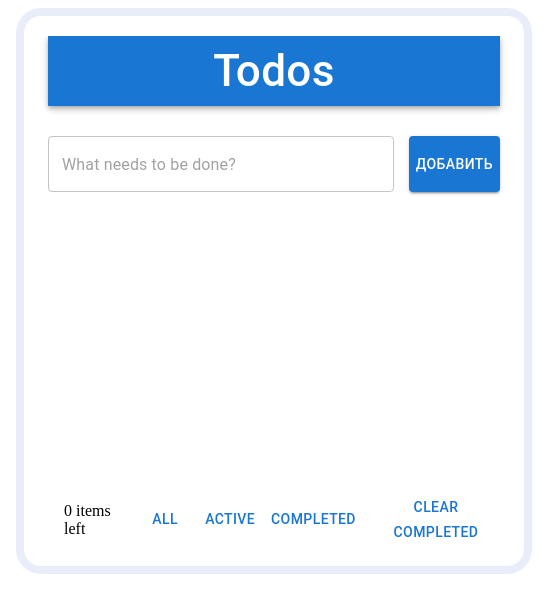
Test: фильтрация всех задач
The image size is (549, 591).
Добавляем задачи
Type "Задача 1" into the field with placeholder "What needs to be done?" at (221,164), box [48, 136, 394, 192]
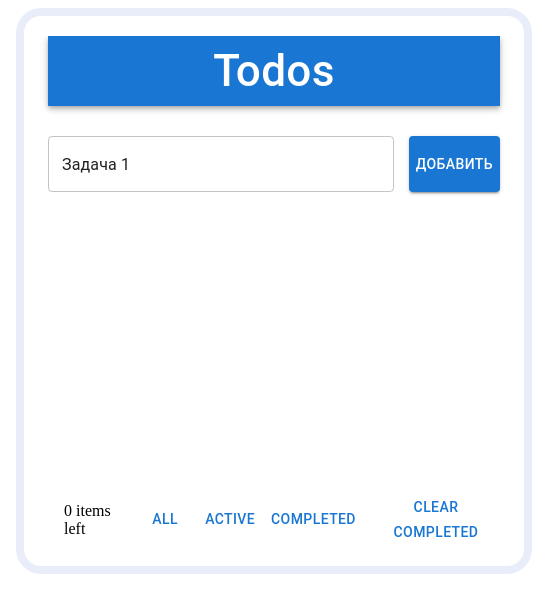
Click the button "Добавить" at (454,164), box [409, 136, 500, 192]
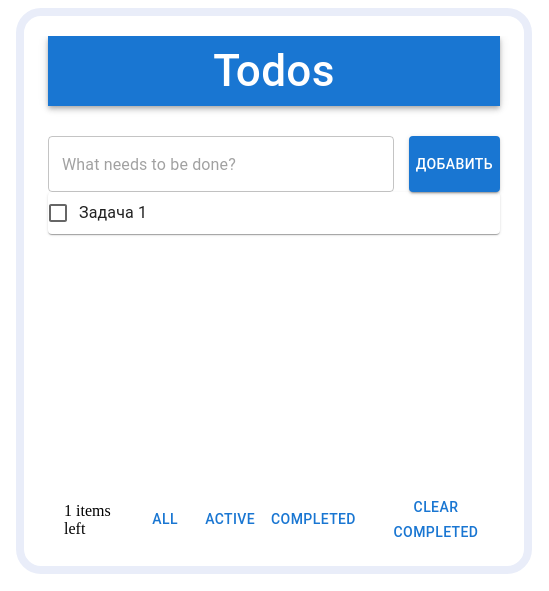
Type "Задача 2" into the field with placeholder "What needs to be done?" at (221,164), box [48, 136, 394, 192]
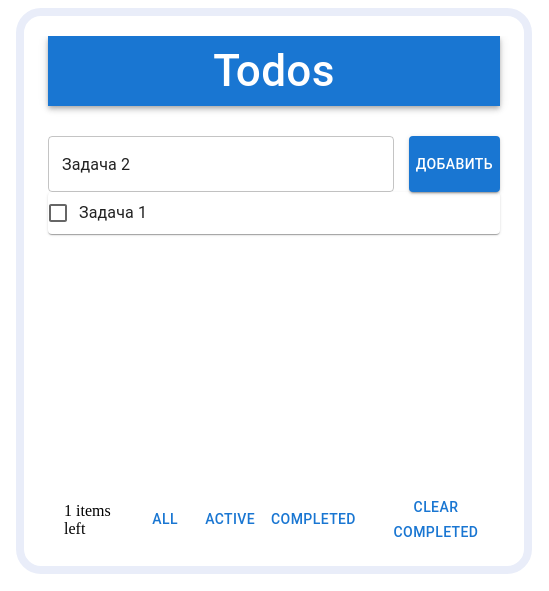
Click the button "Добавить" at (454,164), box [409, 136, 500, 192]
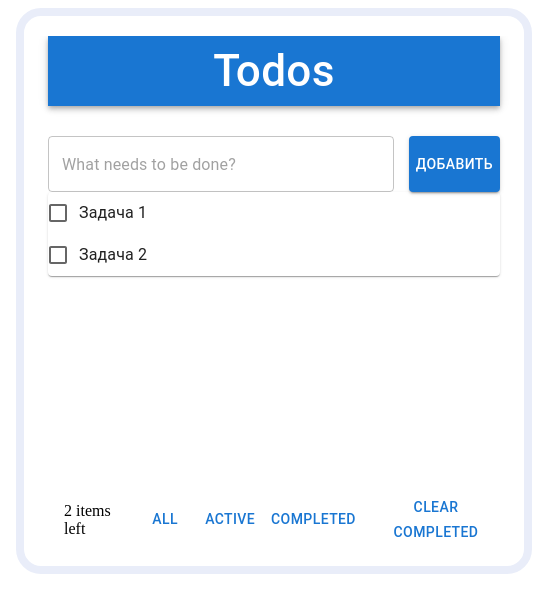
Type "Задача 3" into the field with placeholder "What needs to be done?" at (221,164), box [48, 136, 394, 192]
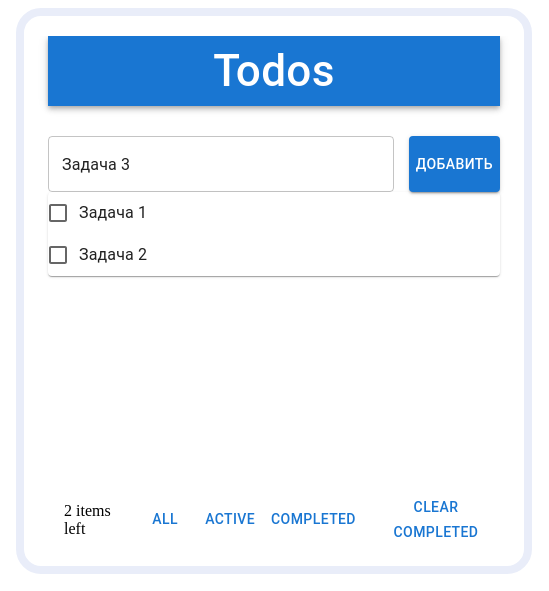
Click the button "Добавить" at (454,164), box [409, 136, 500, 192]
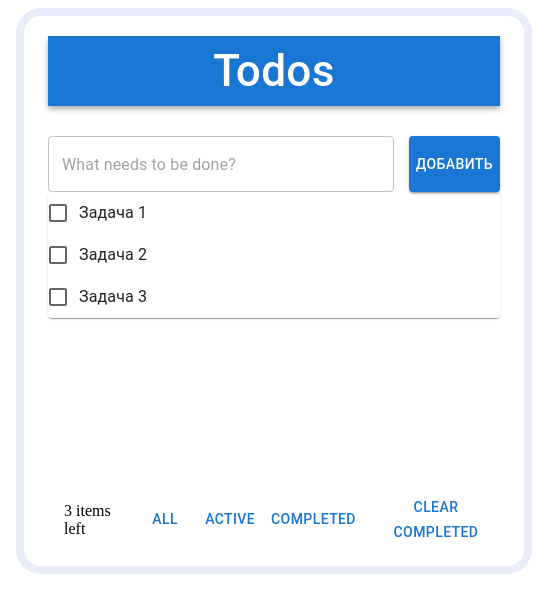
Expected: the number of elements with test id "task" is 3, [48, 201, 147, 225]; [48, 243, 147, 267]; [48, 285, 147, 309]
